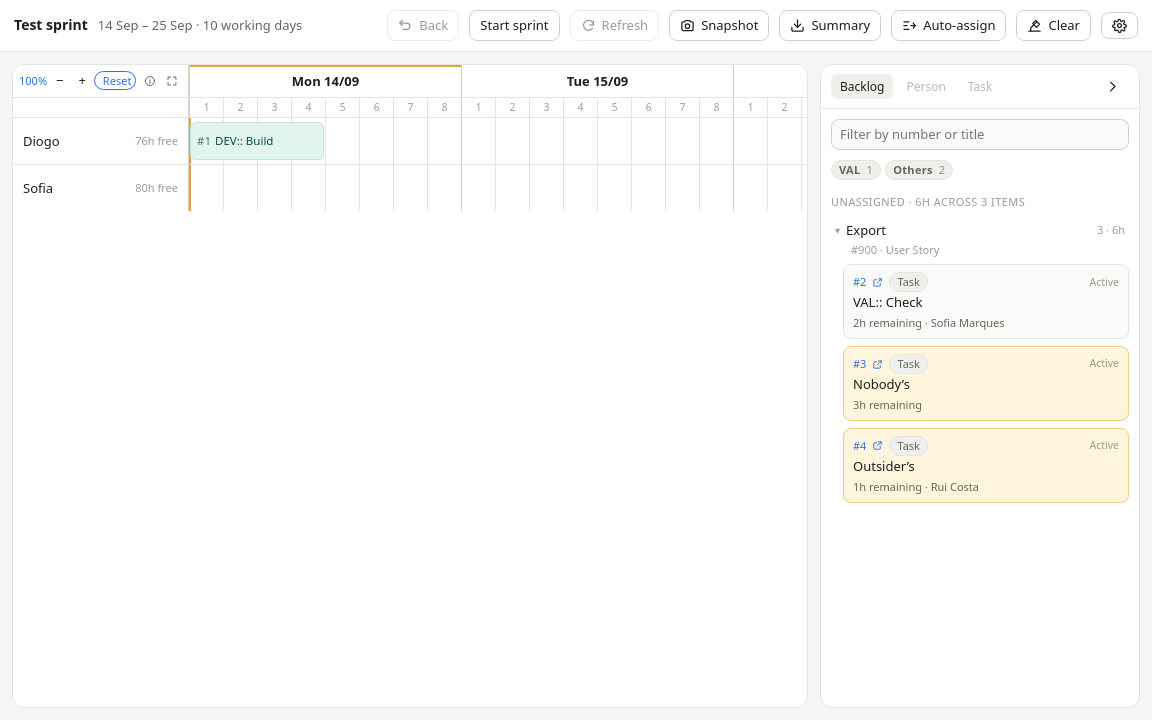
Test: App › a backlog task can be hidden, shown dimmed on request, and unhidden
Expected: the text "Diogo" is shown, [23,132,60,151]
Expected: the text "Unassigned · 6h across 3 items" is shown, [831,194,1025,209]
Right-click the 2nd button with class "task-card": (909, 364) [843,346,1129,421]
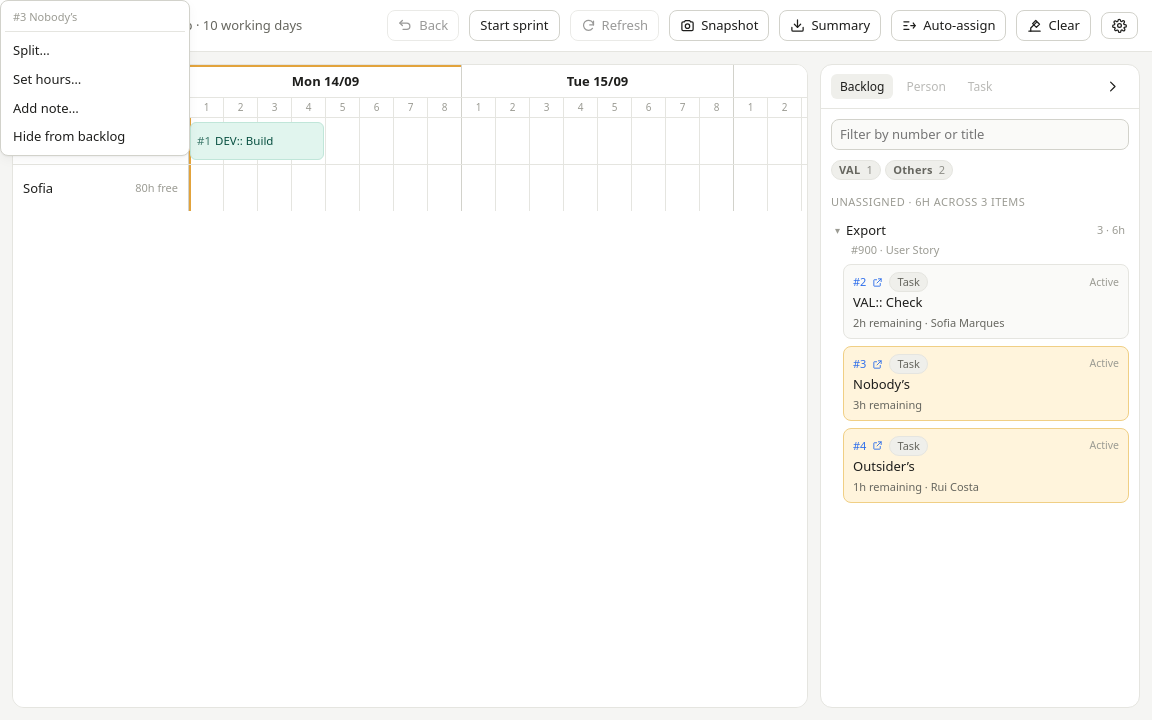
Click the menu item "Hide from backlog": (95, 137) [5,122,185,151]
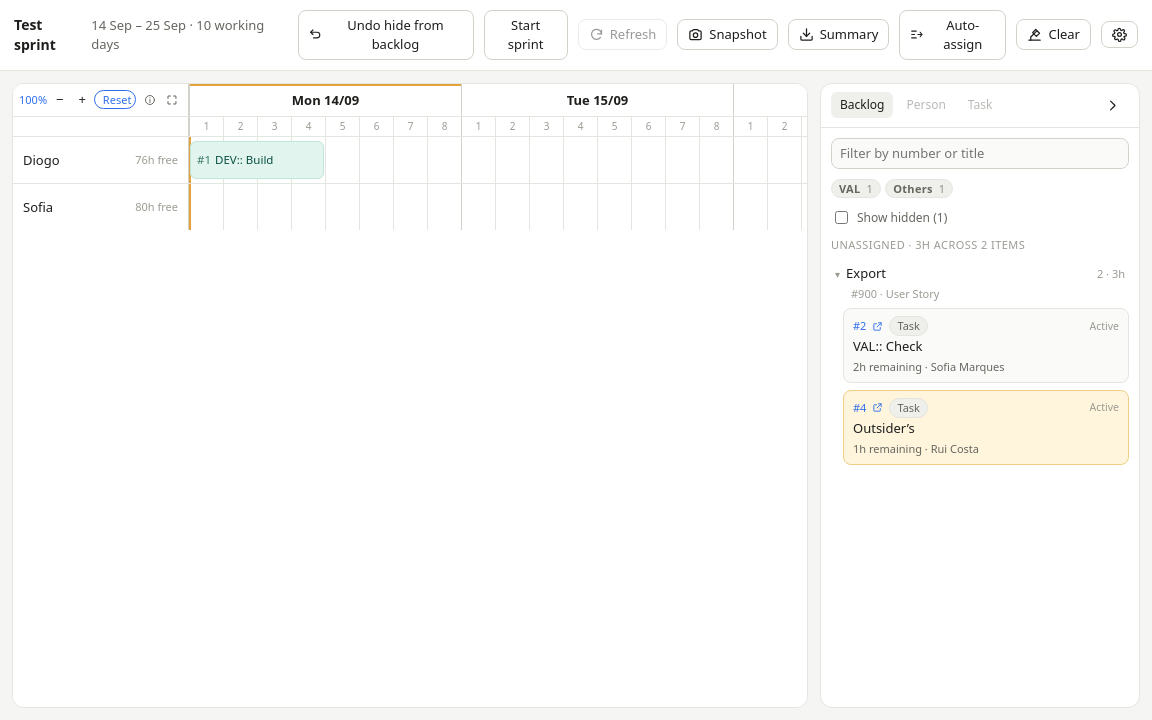
Expected: the text "Backlog · 3h" is shown, [831,138,1129,465]
Expected: the text "Unassigned · 3h across 2 items" is shown, [831,238,1025,252]
Click the checkbox labelled "Show hidden (1)": (842, 218) [835,212,848,224]
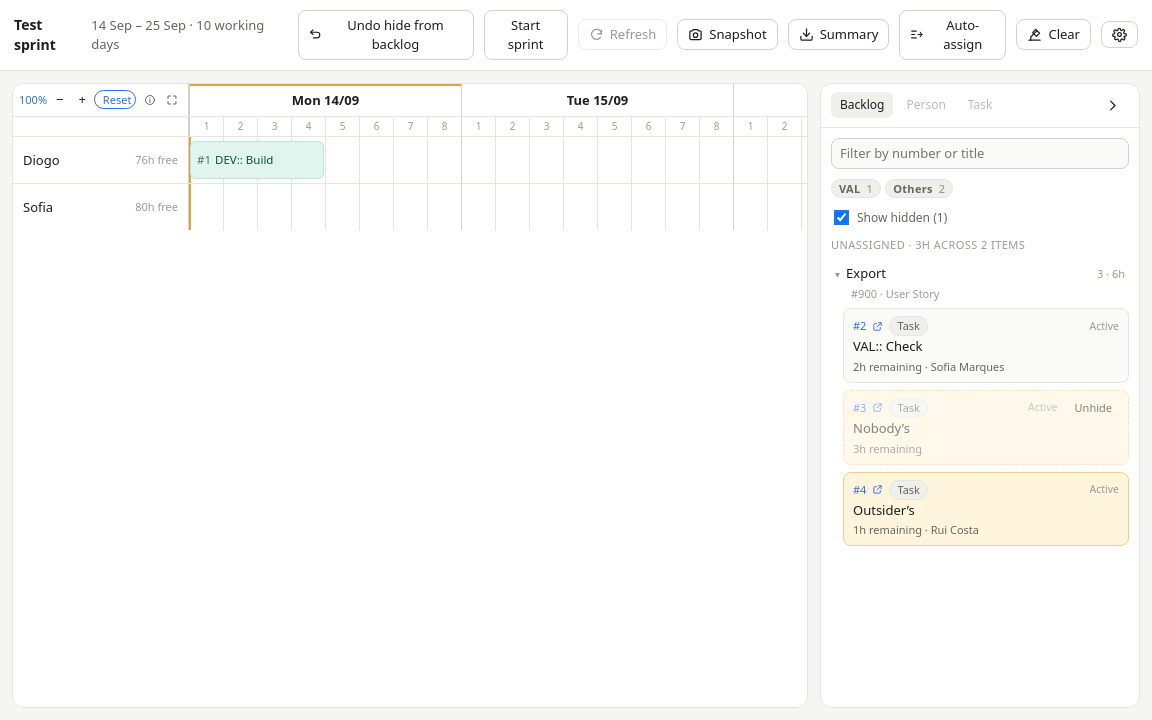
Expected: the text "Unassigned · 3h across 2 items" is shown, [831,238,1025,252]
Right-click the 2nd button with class "task-card": (909, 408) [843,390,1129,465]
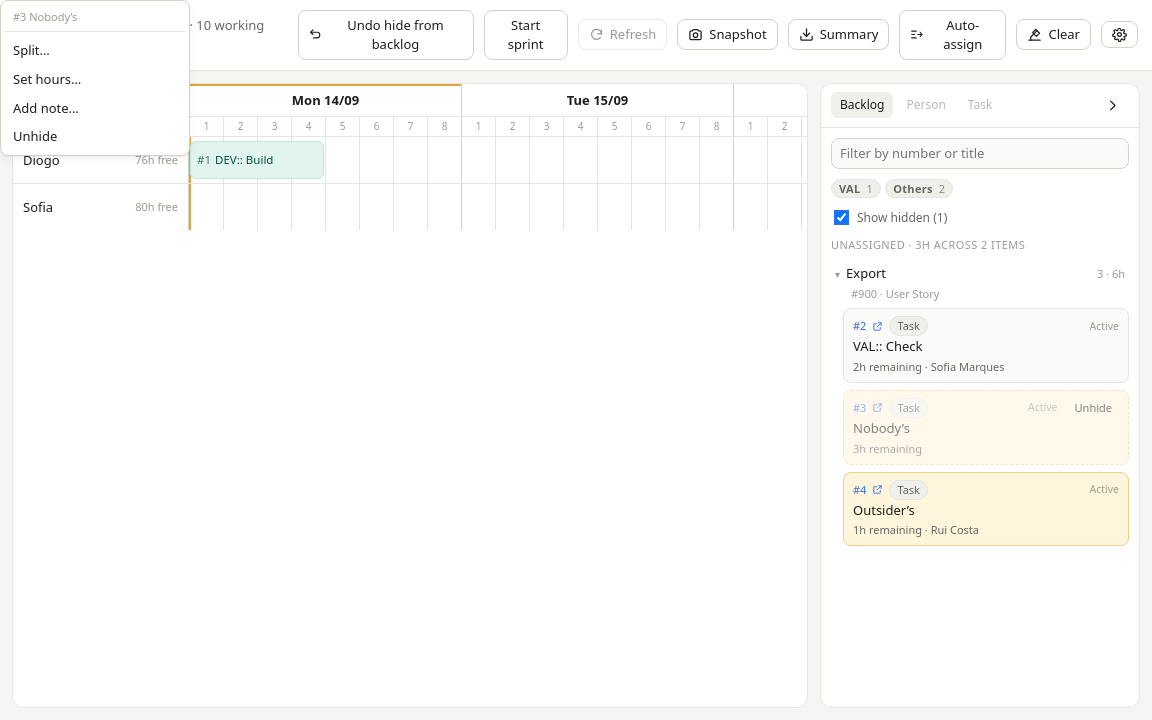
Expected: the menu item "Unhide" is shown, [5,122,185,151]
Press Escape
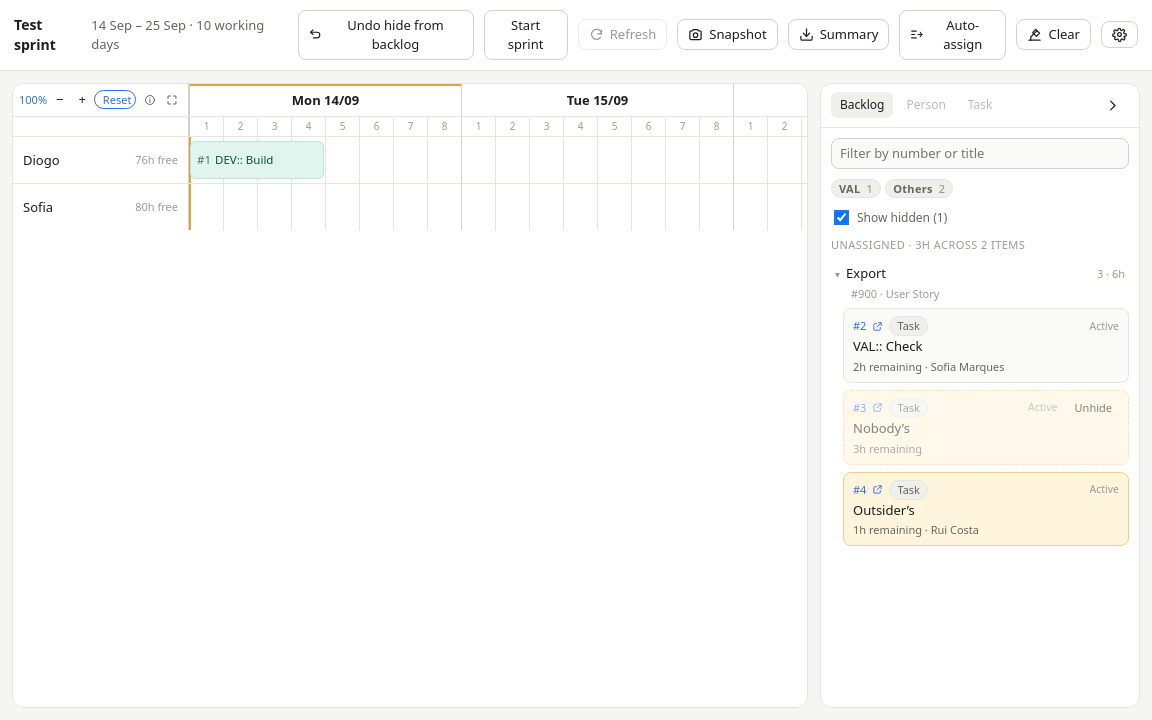
Click the button "Unhide": (1093, 408) [1068,399,1119,417]
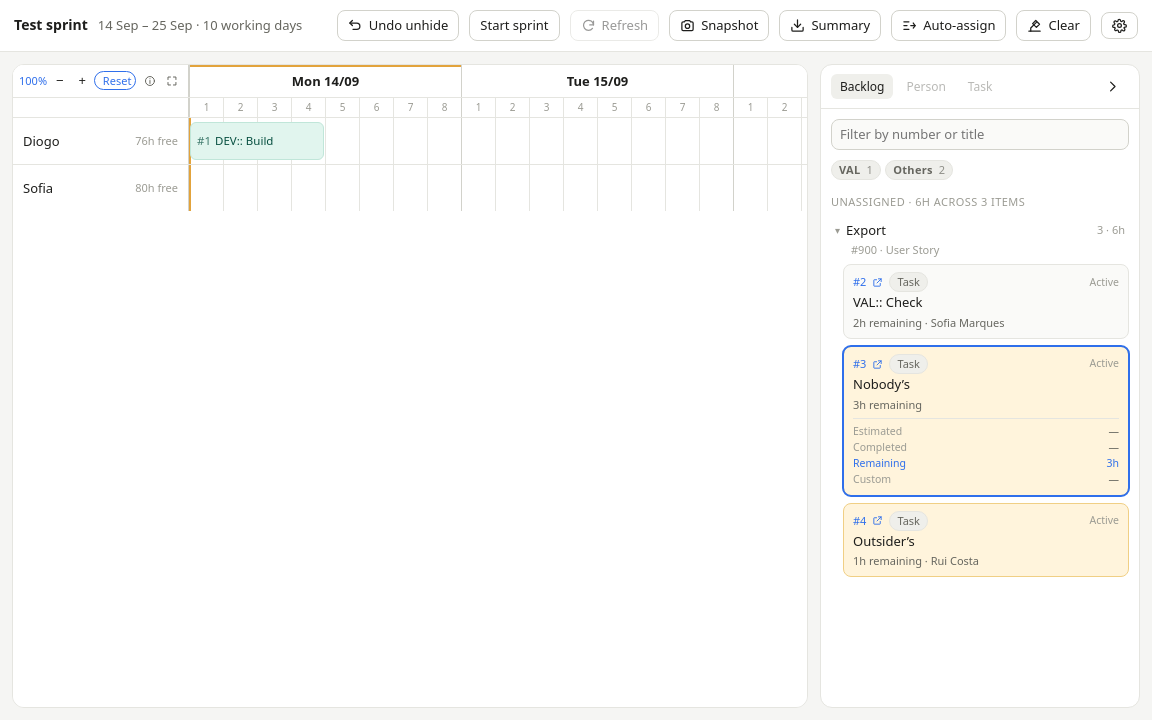
Expected: the label "Show hidden" is gone
Expected: the text "Unassigned · 6h across 3 items" is shown, [831,194,1025,209]
